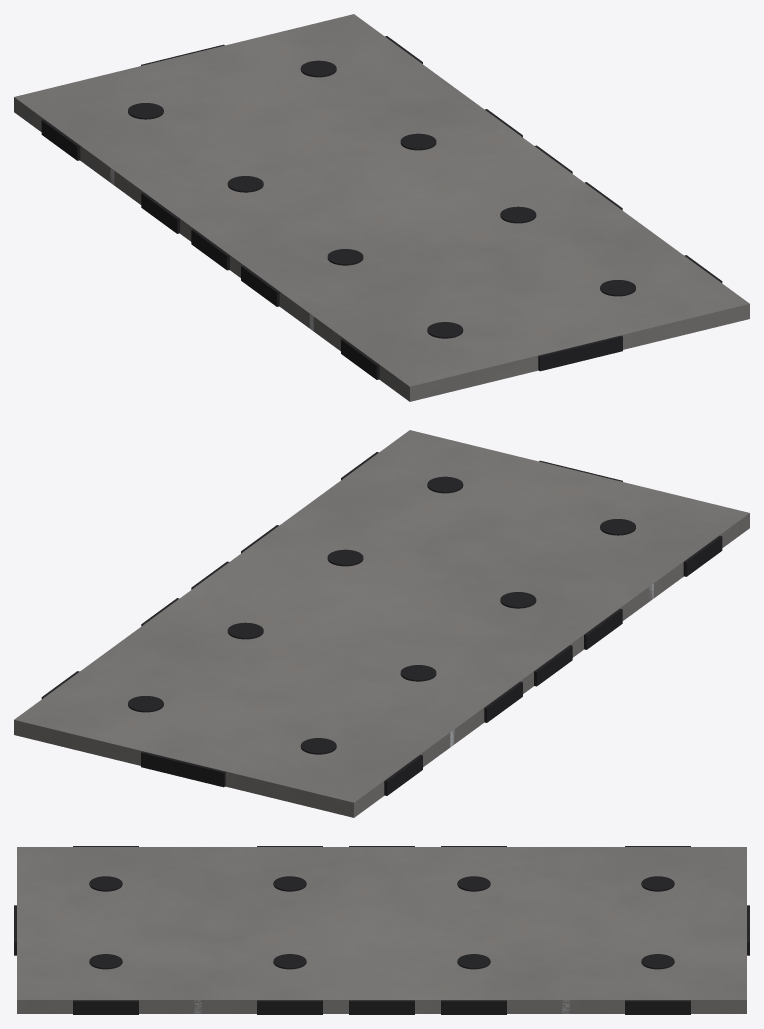
Rendered from rover14_deck_plate_1x2.glb.
The picture shows the model from 3 angles, top to bottom: view 1: azimuth 30°, elevation 25°; view 2: azimuth 150°, elevation 25°; view 3: azimuth 270°, elevation 25°; orthographic projection. The views are drawn at different scales.
Visible parts, largest first — view 1: plate, sockets_top, hardpoints, end_hardpoints; view 2: plate, sockets_top, hardpoints, end_hardpoints; view 3: plate, hardpoints, sockets_top, end_hardpoints.
Part boxes in pixels (x1=…): plate: x1=14, y1=14, x2=749, y2=401; sockets_top: x1=128, y1=60, x2=635, y2=338; hardpoints: x1=41, y1=36, x2=722, y2=379; end_hardpoints: x1=141, y1=44, x2=622, y2=371; plate: x1=14, y1=430, x2=749, y2=817; sockets_top: x1=128, y1=476, x2=635, y2=754; hardpoints: x1=41, y1=452, x2=722, y2=795; end_hardpoints: x1=141, y1=460, x2=622, y2=787; plate: x1=17, y1=847, x2=746, y2=1013; hardpoints: x1=73, y1=846, x2=690, y2=1014; sockets_top: x1=89, y1=876, x2=674, y2=969; end_hardpoints: x1=14, y1=905, x2=749, y2=955.
Bounding box in the file's own units: 1 × 0.05 × 2.
Materials: 3 (2 with a texture image).
